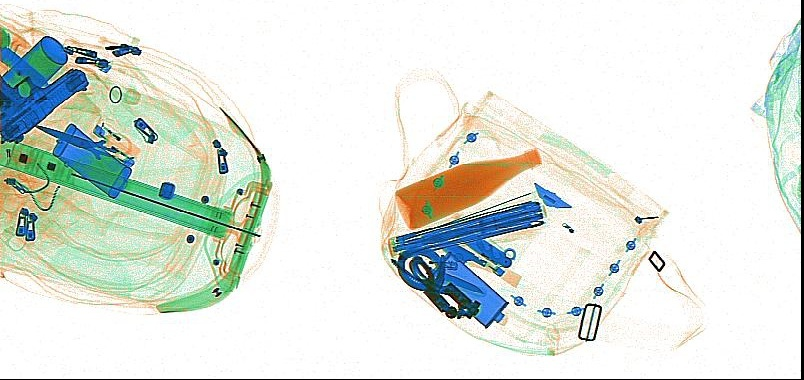handcuffs: (388, 244, 481, 319)
knife: (429, 233, 522, 288), (458, 225, 513, 268), (1, 42, 49, 91), (425, 265, 485, 298)
lighter: (90, 118, 142, 159), (92, 134, 134, 167)
pressure: (1, 34, 69, 118)
scissors: (31, 120, 132, 172)
zippooil: (426, 249, 509, 328), (52, 121, 132, 199)
